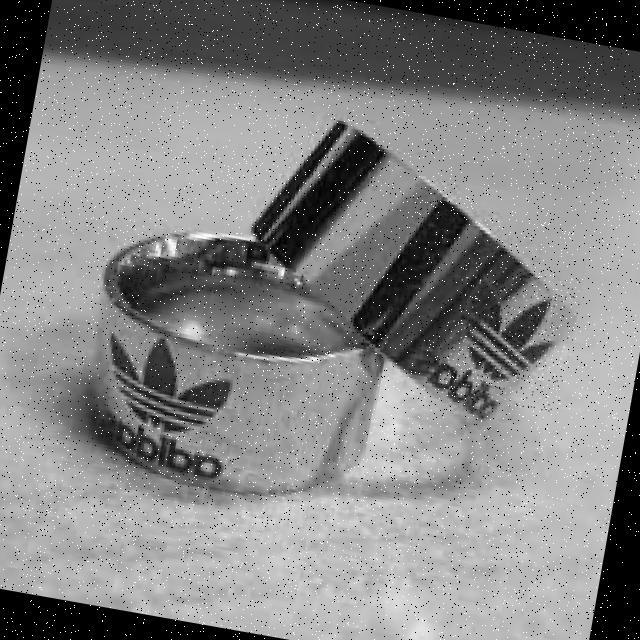Adidas: (75, 312, 249, 452), (439, 259, 583, 415)
